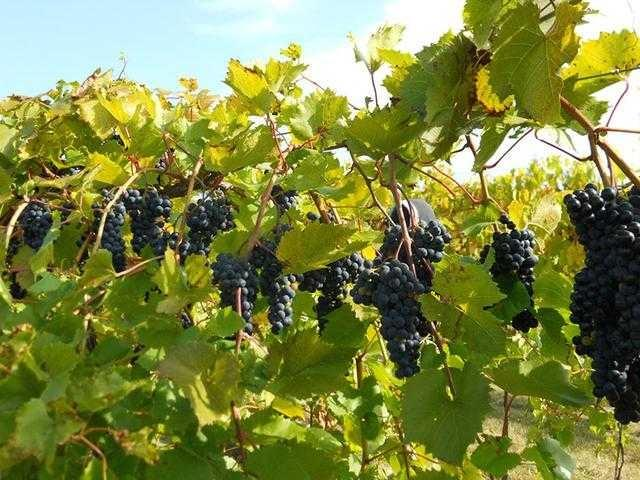Grape Ripe: (565, 184, 639, 418), (377, 197, 450, 288), (487, 218, 542, 333), (370, 260, 423, 377), (261, 228, 301, 342), (130, 177, 179, 270), (182, 178, 230, 268), (88, 190, 138, 275), (216, 247, 253, 346), (19, 194, 51, 254)
